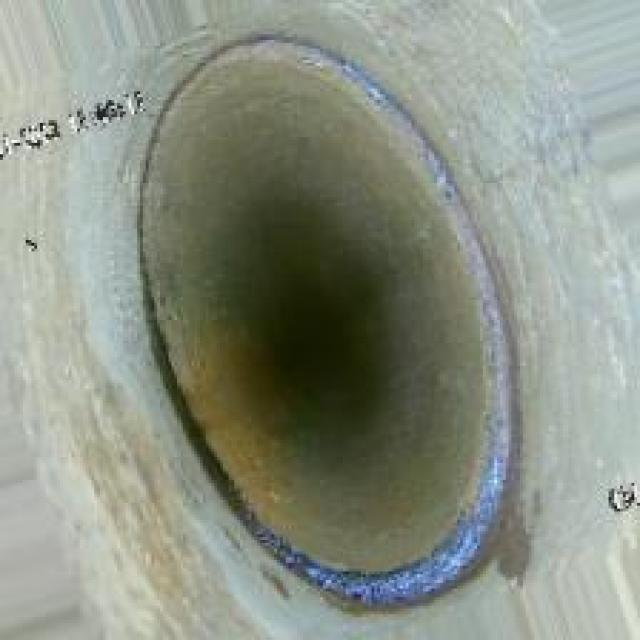joint: (126, 29, 520, 608)
